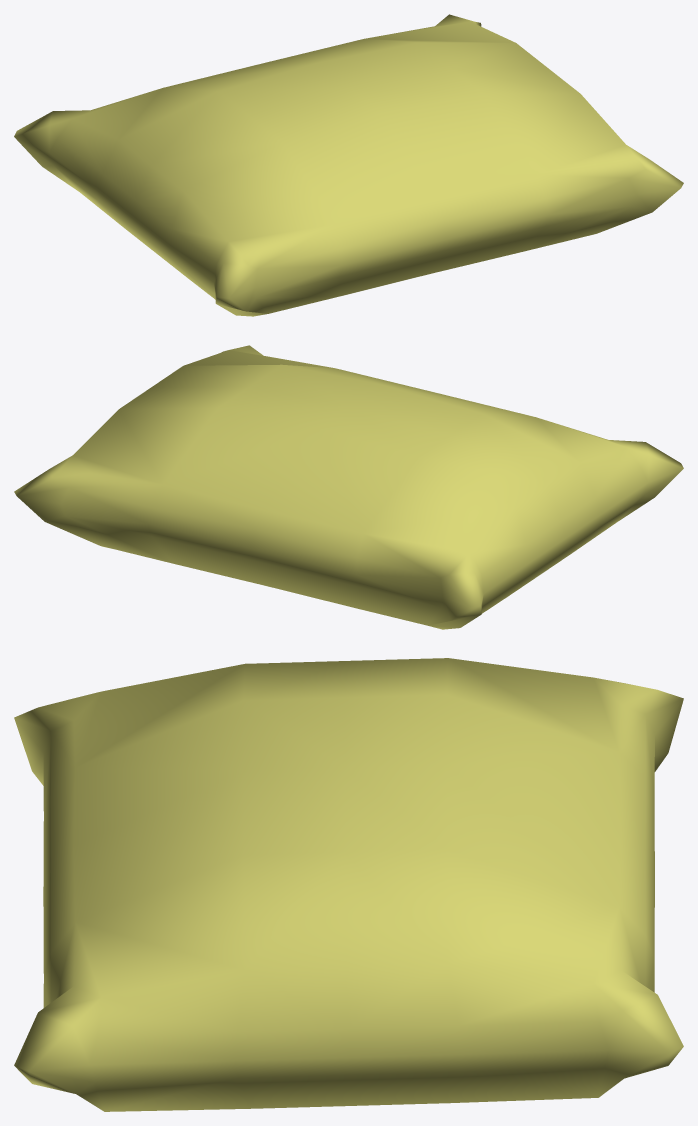
The model's file is big_pillow_green.FBX.
3 renders of one model, top to bottom at view 1: azimuth 30°, elevation 25°; view 2: azimuth 150°, elevation 25°; view 3: azimuth 270°, elevation 25°, orthographic. The views are drawn at different scales.
Visible parts, largest first — view 1: big_pillow; view 2: big_pillow; view 3: big_pillow.
Boxes of the visible parts, bbox=[...] form: big_pillow: bbox=[14, 14, 683, 316]; big_pillow: bbox=[14, 345, 683, 629]; big_pillow: bbox=[14, 658, 683, 1111].
Size of the model in its own units: 61.99 by 21.34 by 48.82.
1 material, 1 textured.
